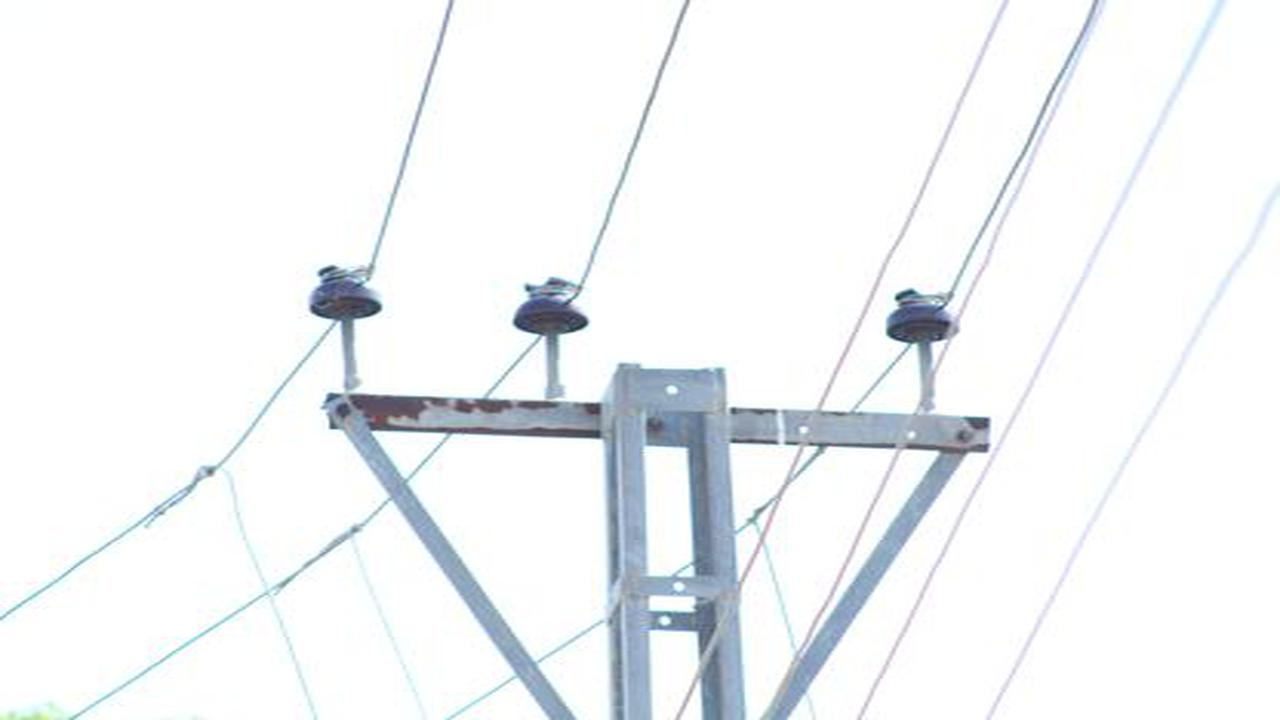insulator_pin: (507, 272, 594, 344), (305, 256, 384, 325), (883, 284, 961, 352)
